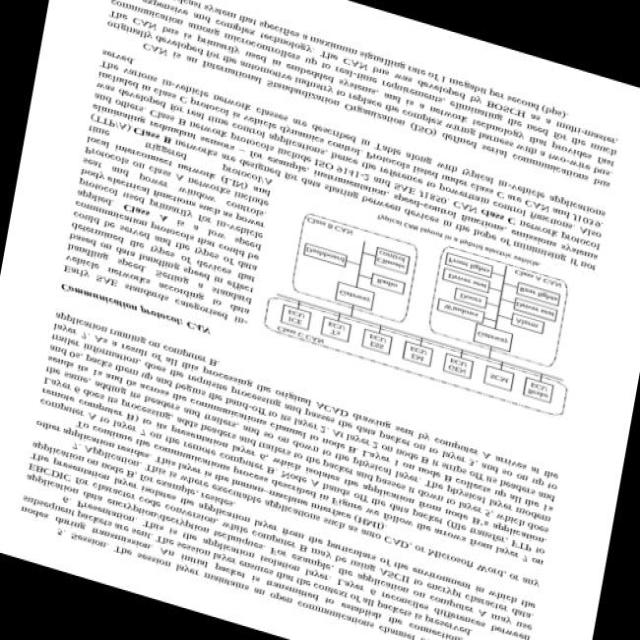Figure Detection - v3 Dataset Version2: (251, 190, 595, 432)
